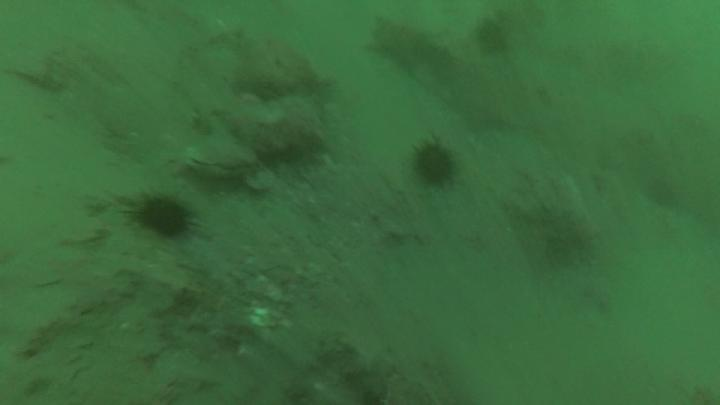echinus: (141, 201, 190, 237), (416, 146, 456, 185)
scallop: (180, 140, 262, 187)
